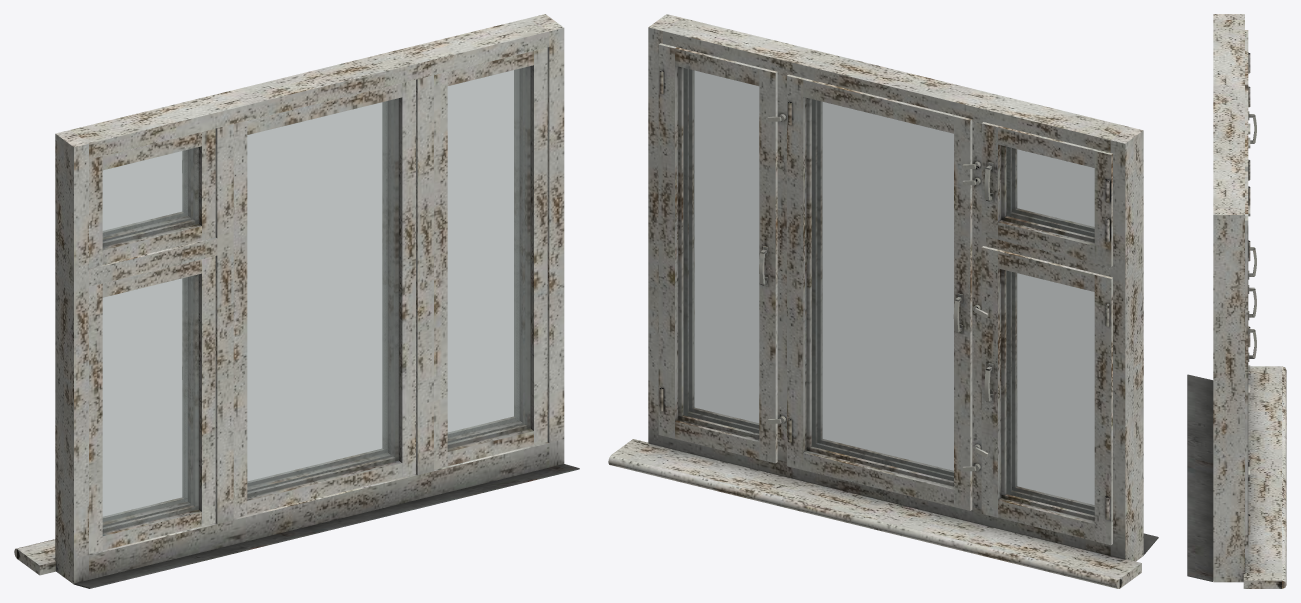
The model's file is win_3_fort_right_web.glb.
3 views of the same model, side by side, from view 1: azimuth 30°, elevation 25°; view 2: azimuth 150°, elevation 25°; view 3: azimuth 270°, elevation 25° (orthographic). The views are drawn at different scales.
Parts seen in each view (by area): view 1: Win3FortRight_Body, Glass_Sash_C_out, Glass_Sash_C_in, Glass_Sash_L_out, Sash_C_Mesh, Glass_Sash_L_in, Glass_Sash_R_out, Sash_L_Mesh, Glass_Sash_R_in, Sash_R_Mesh, Fort_R_Mesh, Glass_Fort_R_out (+1 smaller); view 2: Win3FortRight_Body, Glass_Sash_C_in, Glass_Sash_C_out, Sash_C_Mesh, Glass_Sash_L_in, Sash_L_Mesh, Glass_Sash_L_out, Glass_Sash_R_in, Sash_R_Mesh, Glass_Sash_R_out, Fort_R_Mesh, Glass_Fort_R_in (+1 smaller); view 3: Win3FortRight_Body, Sash_L_Mesh, Sash_C_Mesh, Fort_R_Mesh, Sash_R_Mesh.
Part boxes in pixels (left/top/right/bottom): Win3FortRight_Body: left=14, top=14, right=579, bottom=588; Glass_Sash_C_out: left=247, top=99, right=398, bottom=496; Glass_Sash_C_in: left=247, top=102, right=387, bottom=482; Glass_Sash_L_out: left=448, top=66, right=530, bottom=448; Sash_C_Mesh: left=233, top=79, right=415, bottom=518; Glass_Sash_L_in: left=448, top=69, right=519, bottom=437; Glass_Sash_R_out: left=103, top=275, right=198, bottom=532; Sash_L_Mesh: left=434, top=47, right=547, bottom=469; Glass_Sash_R_in: left=103, top=277, right=187, bottom=521; Sash_R_Mesh: left=89, top=256, right=215, bottom=553; Fort_R_Mesh: left=89, top=128, right=215, bottom=267; Glass_Fort_R_out: left=103, top=147, right=198, bottom=246; Win3FortRight_Body: left=608, top=14, right=1158, bottom=588; Glass_Sash_C_in: left=812, top=99, right=953, bottom=480; Glass_Sash_C_out: left=822, top=102, right=953, bottom=470; Sash_C_Mesh: left=787, top=74, right=972, bottom=510; Glass_Sash_L_in: left=683, top=68, right=758, bottom=433; Sash_L_Mesh: left=658, top=43, right=777, bottom=463; Glass_Sash_L_out: left=694, top=71, right=758, bottom=422; Glass_Sash_R_in: left=1006, top=271, right=1094, bottom=515; Sash_R_Mesh: left=981, top=246, right=1112, bottom=545; Glass_Sash_R_out: left=1017, top=273, right=1094, bottom=504; Fort_R_Mesh: left=981, top=122, right=1112, bottom=266; Glass_Fort_R_in: left=1006, top=147, right=1094, bottom=236; Win3FortRight_Body: left=1187, top=14, right=1286, bottom=588; Sash_L_Mesh: left=1245, top=171, right=1256, bottom=557; Sash_C_Mesh: left=1245, top=89, right=1256, bottom=480; Fort_R_Mesh: left=1245, top=30, right=1256, bottom=143; Sash_R_Mesh: left=1248, top=159, right=1256, bottom=347.
Size of the model in its own units: 1.92 by 1.54 by 0.3765.
2 materials, 1 textured.
